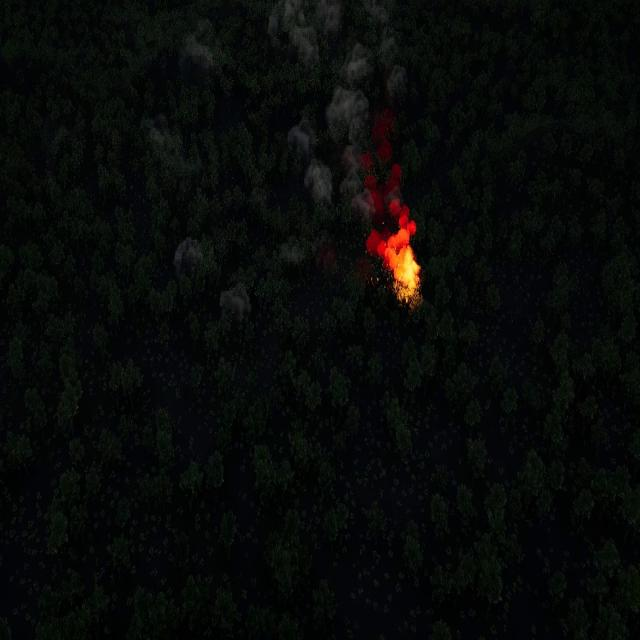fire: (382, 209, 421, 292)
smoke: (275, 0, 408, 261), (177, 26, 214, 76), (219, 286, 250, 326), (172, 236, 200, 276), (145, 116, 172, 152)
